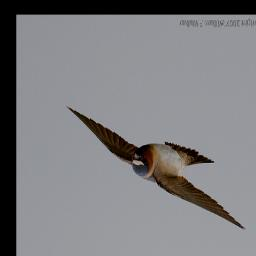Swallow: (66, 108, 247, 234)
